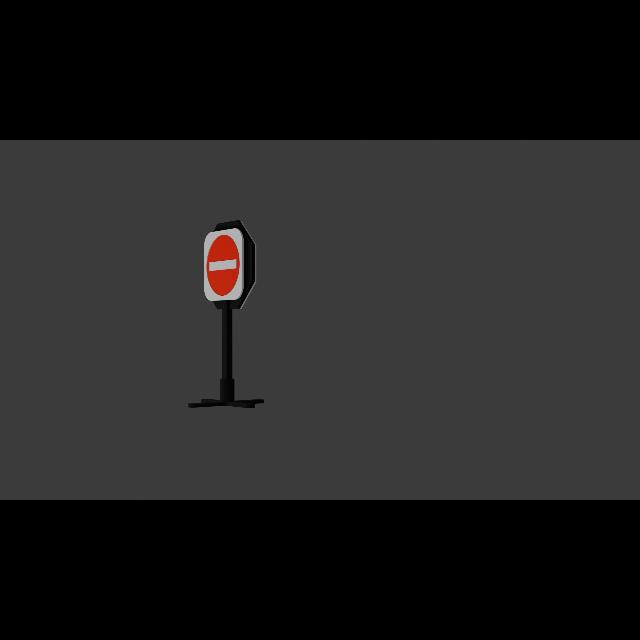sign_noentry: (207, 234, 242, 298)
